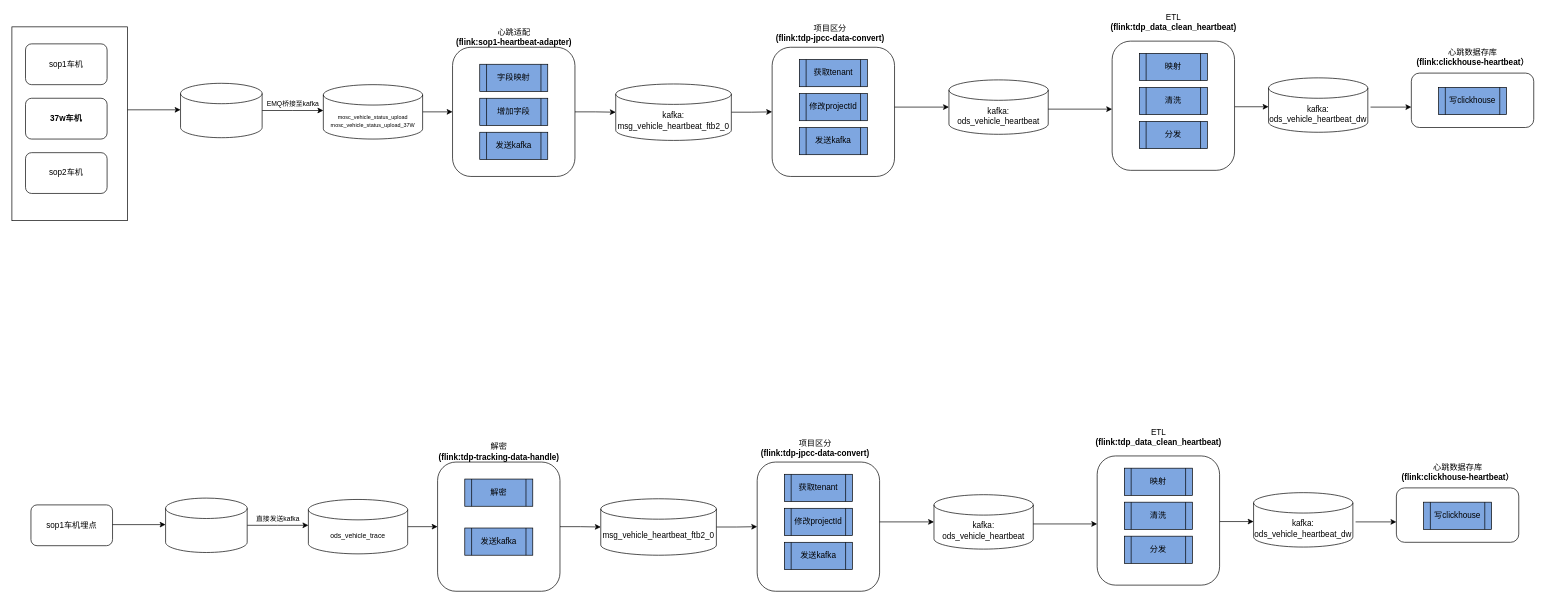
Image size: 1546x603. Some labels were removed from this diagram. Here are the shapes that lost their labels. From the top down, the centre of each, then its label:
At (x=221, y=110): "EMQ".
At (x=206, y=524): "mosc_sop1".
